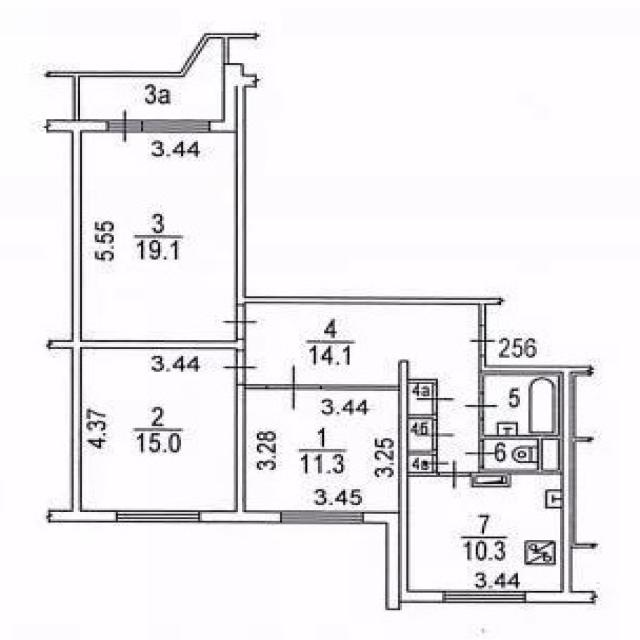Bathrooms: (485, 376, 558, 435), (485, 441, 538, 469)
Corridors: (246, 303, 478, 471), (80, 39, 222, 120), (410, 383, 432, 413), (409, 420, 431, 450), (410, 457, 432, 471)
Doors: (265, 363, 323, 411), (220, 303, 259, 340), (221, 350, 258, 386), (415, 419, 455, 451), (107, 109, 142, 144), (416, 384, 455, 414), (439, 458, 471, 490), (464, 390, 499, 419), (464, 441, 498, 468), (468, 325, 495, 358), (422, 455, 451, 471)
LBwalls: (47, 132, 237, 511), (398, 359, 444, 604), (210, 62, 262, 134), (364, 512, 400, 611), (560, 372, 573, 591), (238, 86, 246, 304), (234, 386, 246, 509), (199, 509, 280, 522), (46, 509, 117, 523), (525, 591, 598, 604), (44, 120, 109, 132), (236, 340, 246, 350)
Offices: (82, 132, 234, 340), (82, 348, 234, 510), (246, 390, 398, 510), (409, 476, 561, 591)
Walls: (42, 32, 261, 121), (245, 296, 506, 326), (469, 418, 563, 489), (477, 358, 594, 392), (322, 383, 398, 390), (410, 449, 438, 456), (409, 378, 438, 384), (410, 413, 438, 419), (409, 472, 439, 477), (246, 384, 267, 389)
Windows: (280, 510, 364, 524), (117, 510, 200, 523), (141, 118, 210, 133), (443, 591, 526, 602)
